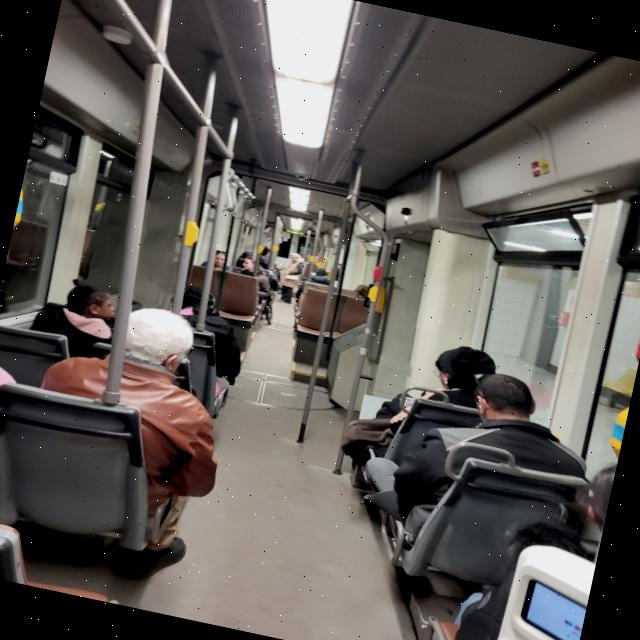empty-seat-frontal: (210, 268, 264, 332), (290, 282, 342, 348)
